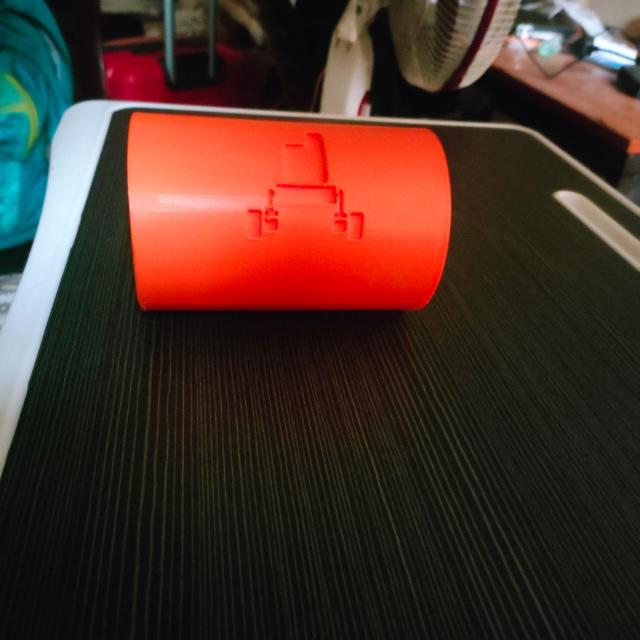Cylinder: (125, 109, 453, 312)
